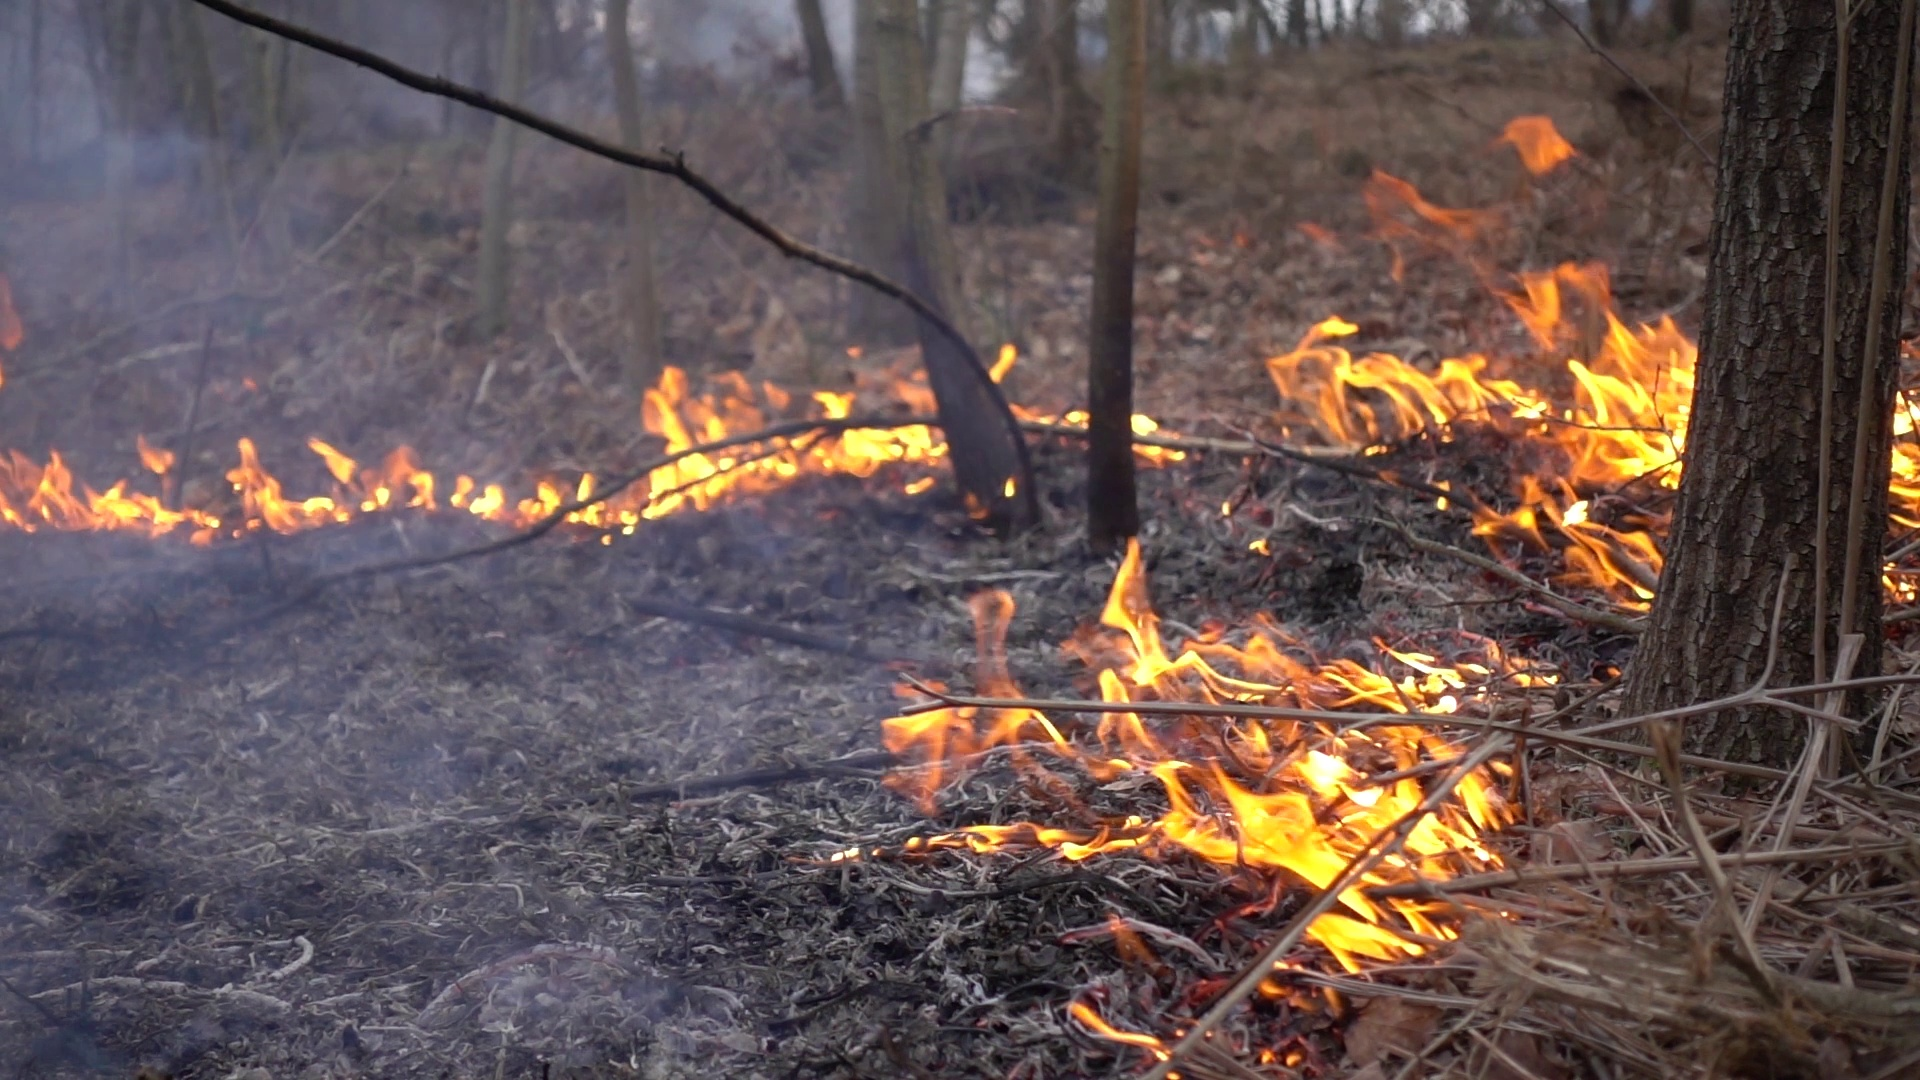fire: (903, 593, 1505, 985), (1269, 264, 1692, 575), (640, 367, 936, 505), (1, 446, 218, 549), (228, 439, 429, 525), (525, 475, 611, 530), (1894, 393, 1920, 495), (448, 473, 506, 520), (1127, 404, 1160, 442)
